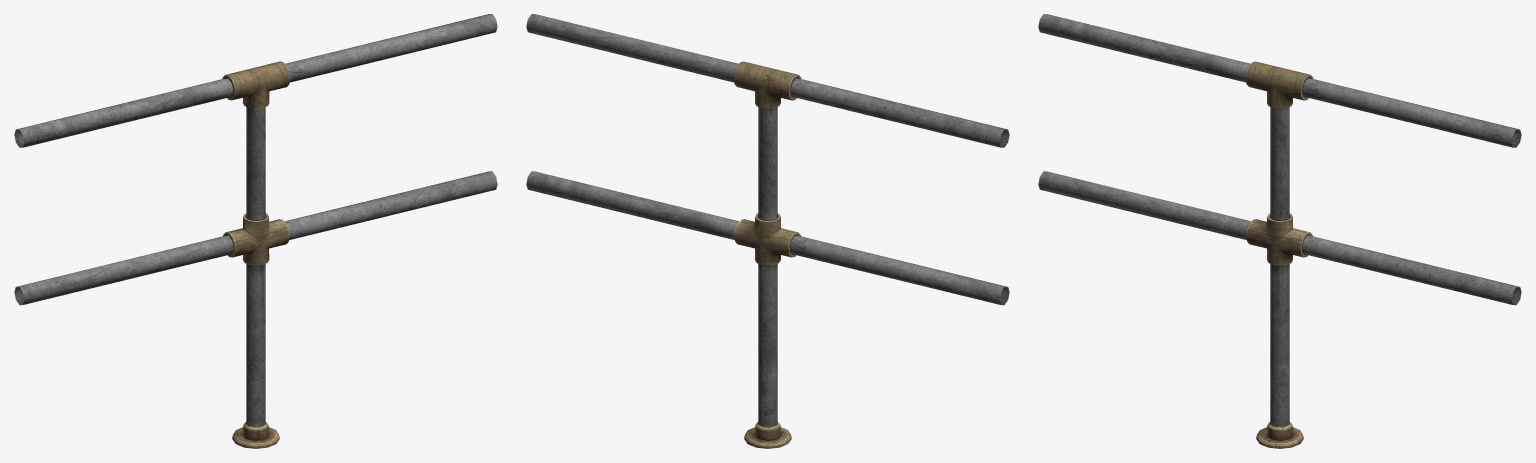
File: railing_pplant_short.dae
3 views of the same model, side by side, from view 1: azimuth 30°, elevation 25°; view 2: azimuth 150°, elevation 25°; view 3: azimuth 330°, elevation 25° (orthographic).
Visible parts, largest first — view 1: railing_pplant_short_chainlink; view 2: railing_pplant_short_chainlink; view 3: railing_pplant_short_chainlink.
Part boxes in pixels (left/top/right/bottom): railing_pplant_short_chainlink: left=14, top=14, right=497, bottom=448; railing_pplant_short_chainlink: left=526, top=14, right=1009, bottom=448; railing_pplant_short_chainlink: left=1038, top=14, right=1521, bottom=448.
Size of the model in its own units: 2 by 1.49 by 0.1737.
